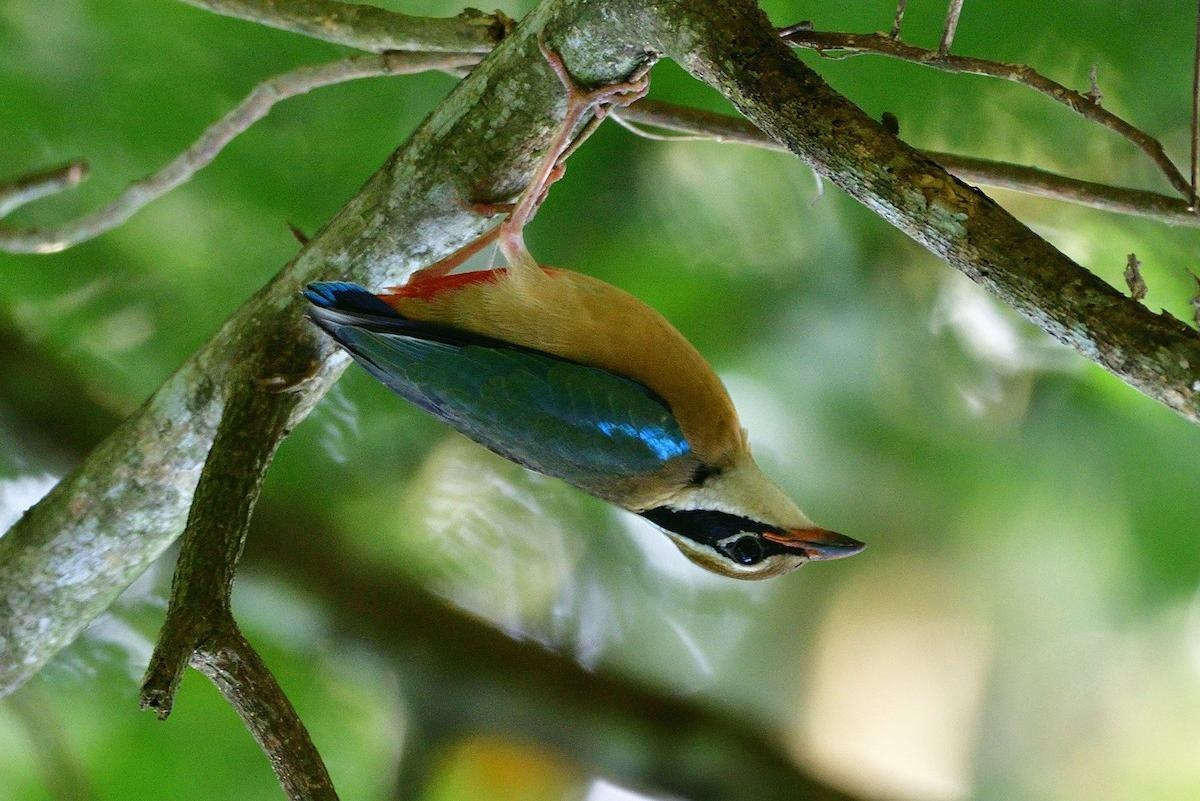pitta: (357, 152, 864, 602)
